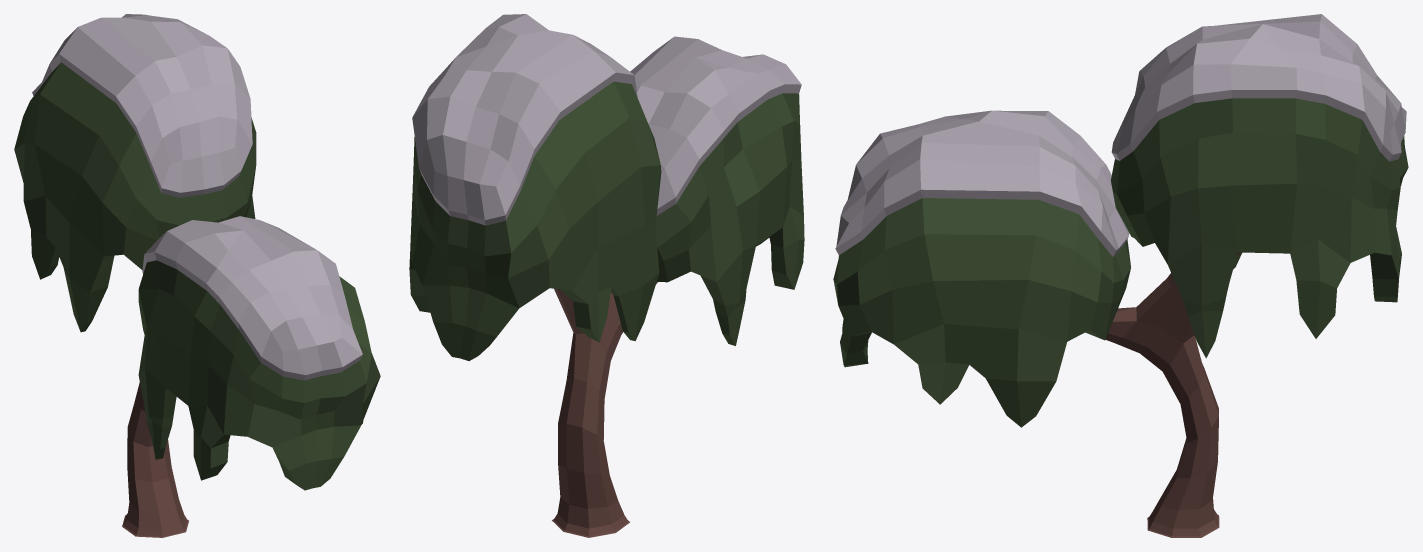
The model's file is willow_snow5.glb.
3 renders of one model, left to right at view 1: azimuth 30°, elevation 25°; view 2: azimuth 150°, elevation 25°; view 3: azimuth 270°, elevation 25°, orthographic. The views are drawn at different scales.
Parts seen in each view (by area): view 1: Willow_Snow_5; view 2: Willow_Snow_5; view 3: Willow_Snow_5.
Boxes of the visible parts, bbox=[...] form: Willow_Snow_5: bbox=[14, 14, 380, 537]; Willow_Snow_5: bbox=[409, 14, 804, 537]; Willow_Snow_5: bbox=[833, 14, 1408, 537].
Size of the model in its own units: 1.01 by 2.46 by 2.49.
